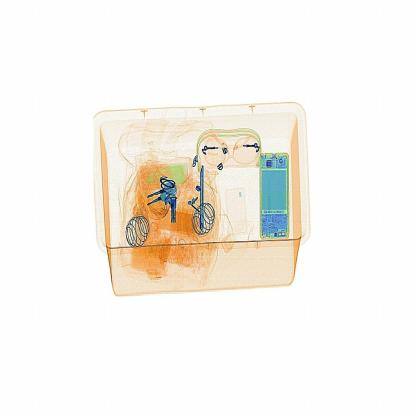pliers: (182, 155, 218, 233)
